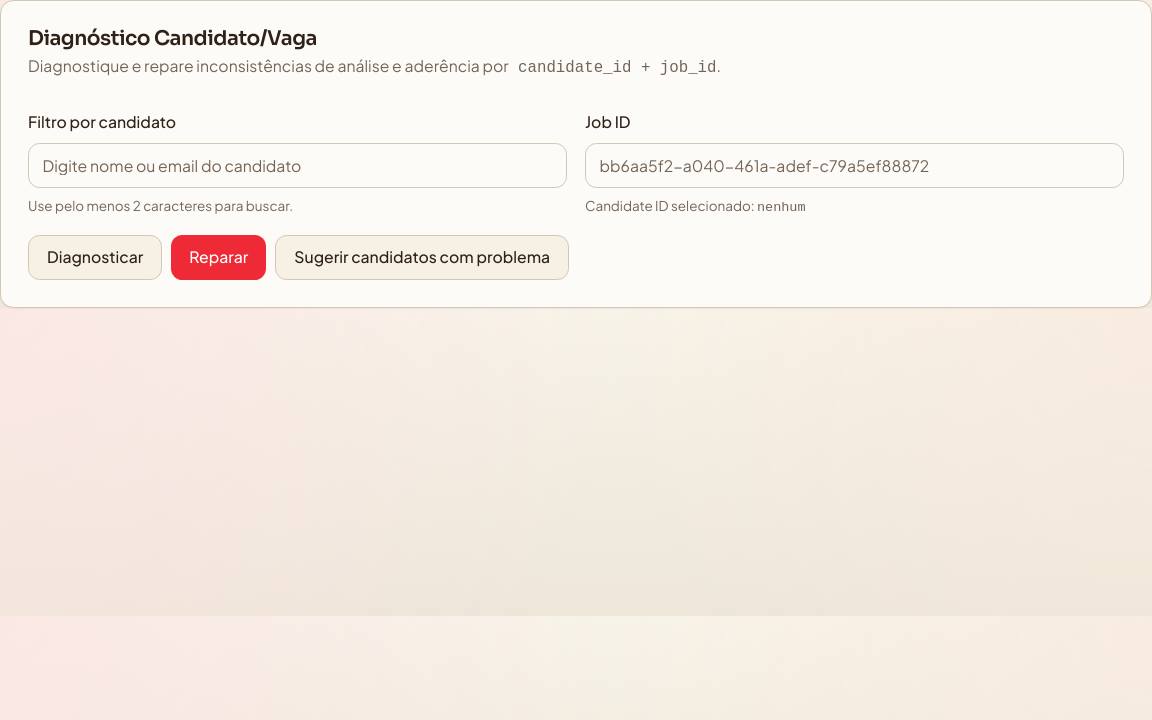
Scenario: CandidateJobFlowDiagnosticsCard › erro 401 mostra mensagem amigável
The image size is (1152, 720).
Type "Alice" into the field labelled "Filtro por candidato" at x=298, y=165, box [28,142,567,188]
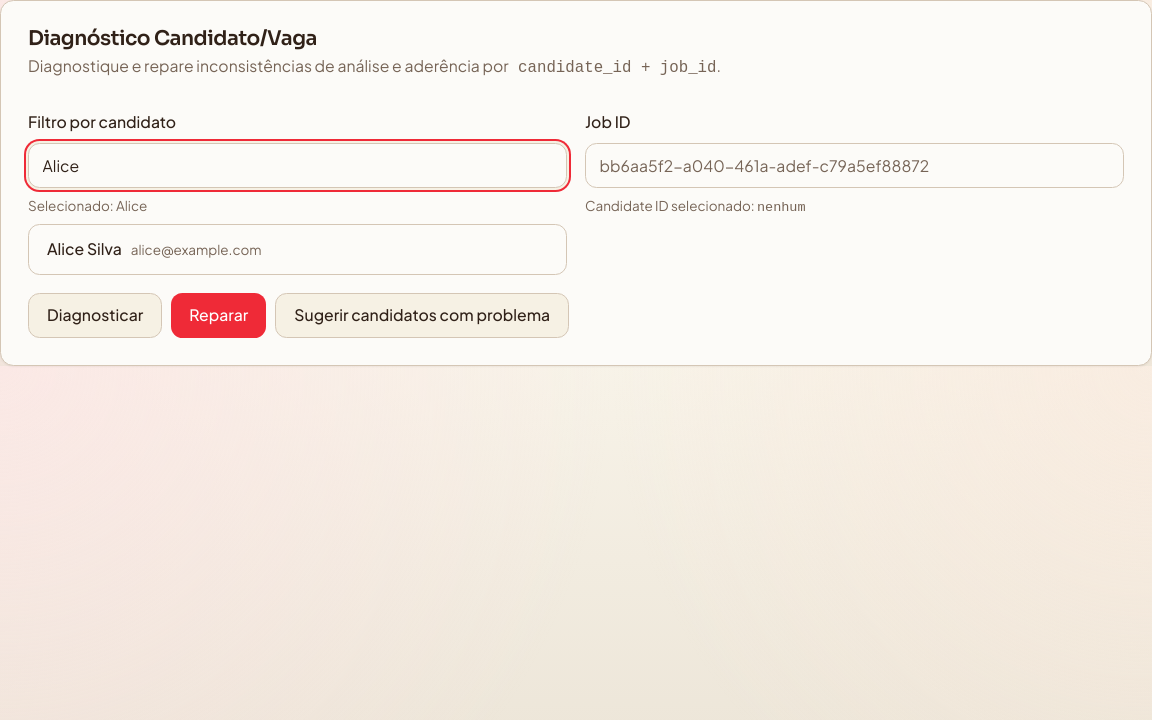
Click the button "Alice Silva" at x=84, y=248, box [38,234,557,265]
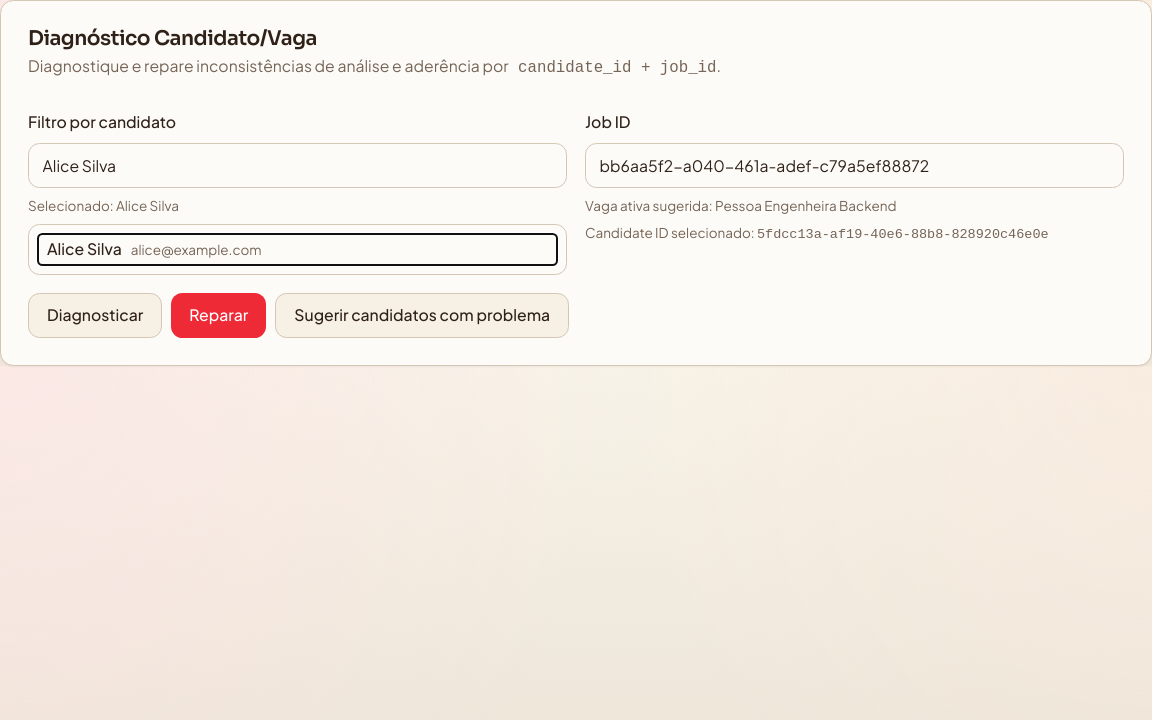
Expected: the field labelled "Job ID" holds "bb6aa5f2-a040-461a-adef-c79a5ef88872", [585,142,1124,188]
Click the button "Diagnosticar" at x=95, y=316, box [28,293,162,338]
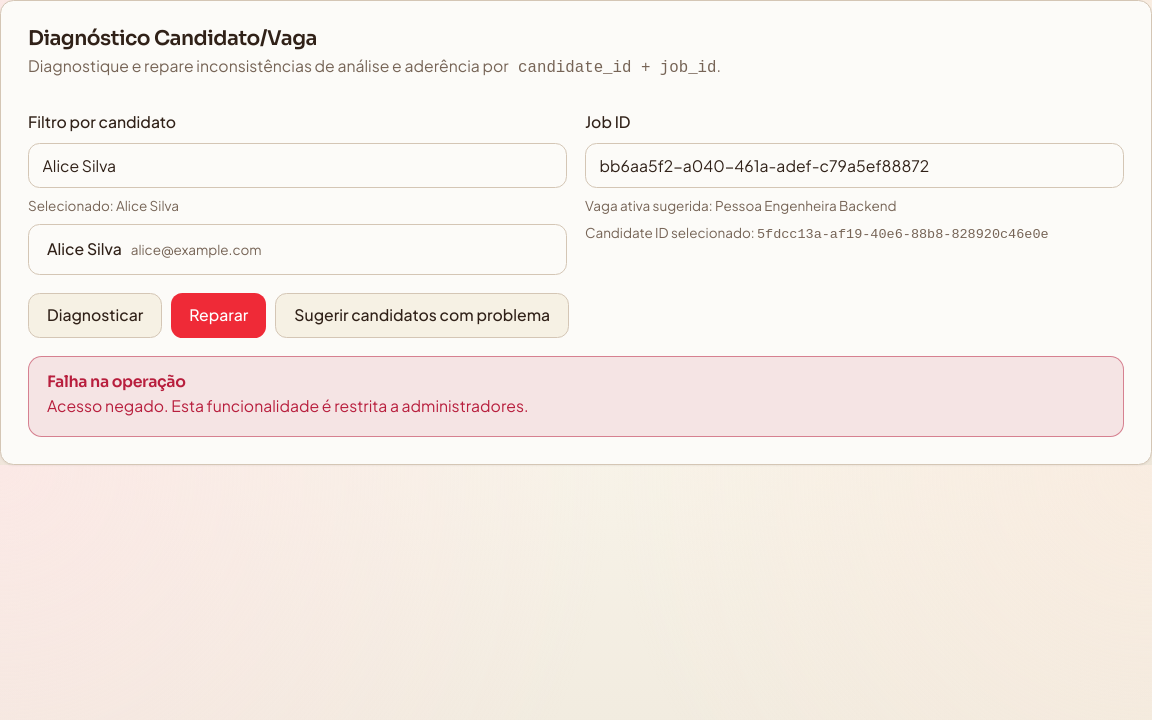
Expected: the text "Acesso negado. Esta funcionalidade é restrita a administradores." is shown, [47,396,528,415]
